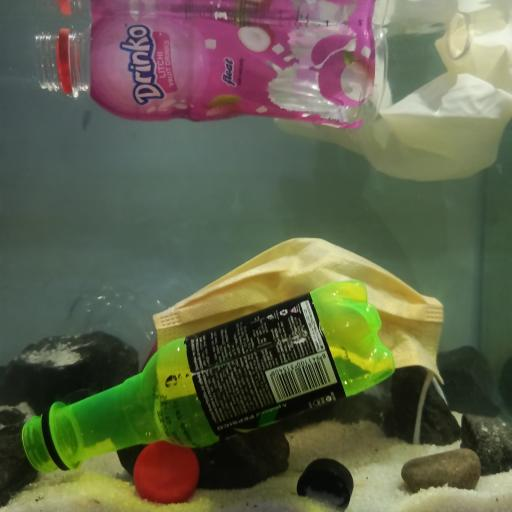bottle_cap: (134, 440, 200, 503), (296, 456, 354, 511)
glove: (278, 10, 512, 184)
mask: (151, 236, 447, 401)
plastic_bottle: (22, 278, 399, 476), (33, 14, 388, 130)
